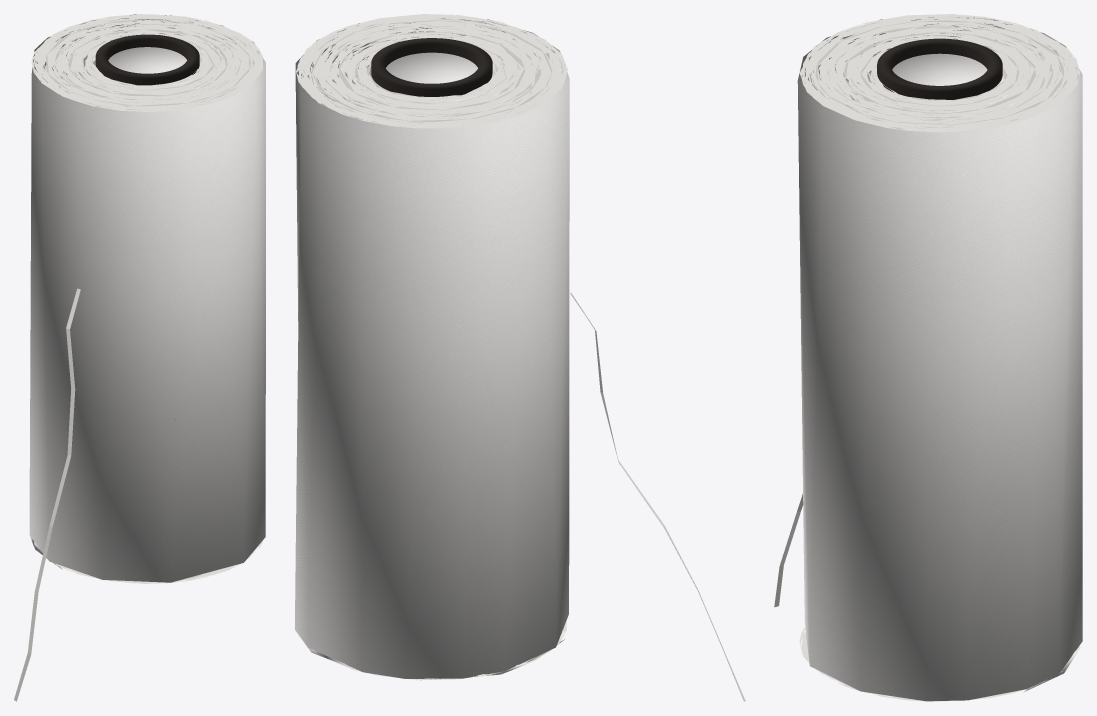
Rendered from product-30-woven-thread.glb.
The picture shows the model from 3 angles, left to right: view 1: azimuth 30°, elevation 25°; view 2: azimuth 150°, elevation 25°; view 3: azimuth 270°, elevation 25°; orthographic projection. The views are drawn at different scales.
Visible parts, largest first — view 1: dense non-woven wound thread field, top wound rolled edge, dark hollow core through-bore, top concentric flat tape ends; view 2: dense non-woven wound thread field, top wound rolled edge, dark hollow core through-bore, top concentric flat tape ends; view 3: dense non-woven wound thread field, top wound rolled edge, dark hollow core through-bore, top concentric flat tape ends.
Boxes of the visible parts, x1,y1,x2,y2 form: dense non-woven wound thread field: (29, 14, 265, 582); top wound rolled edge: (14, 14, 262, 701); dark hollow core through-bore: (95, 34, 199, 85); top concentric flat tape ends: (36, 18, 254, 582); dense non-woven wound thread field: (295, 18, 569, 678); top wound rolled edge: (295, 14, 745, 701); dark hollow core through-bore: (371, 38, 492, 96); top concentric flat tape ends: (301, 18, 563, 659); dense non-woven wound thread field: (797, 17, 1082, 701); top wound rolled edge: (774, 14, 1081, 701); dark hollow core through-bore: (877, 38, 1002, 99); top concentric flat tape ends: (804, 16, 1068, 638).
Bounding box in the file's own units: 168 × 290 × 123.
5 materials, 1 textured.
